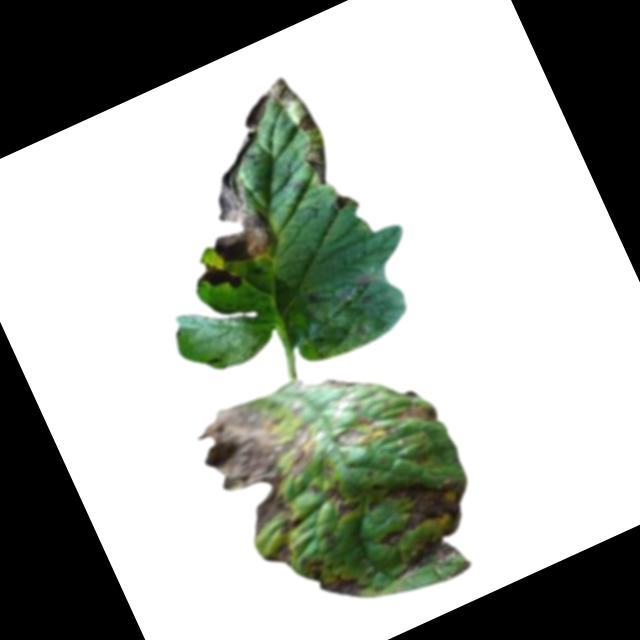Early_blight: (189, 376, 344, 542), (357, 448, 491, 583), (175, 132, 292, 272), (232, 70, 341, 205), (300, 544, 370, 614), (332, 401, 398, 456), (194, 253, 245, 304), (392, 392, 443, 437), (334, 272, 383, 314), (261, 539, 300, 572), (333, 497, 363, 521)
